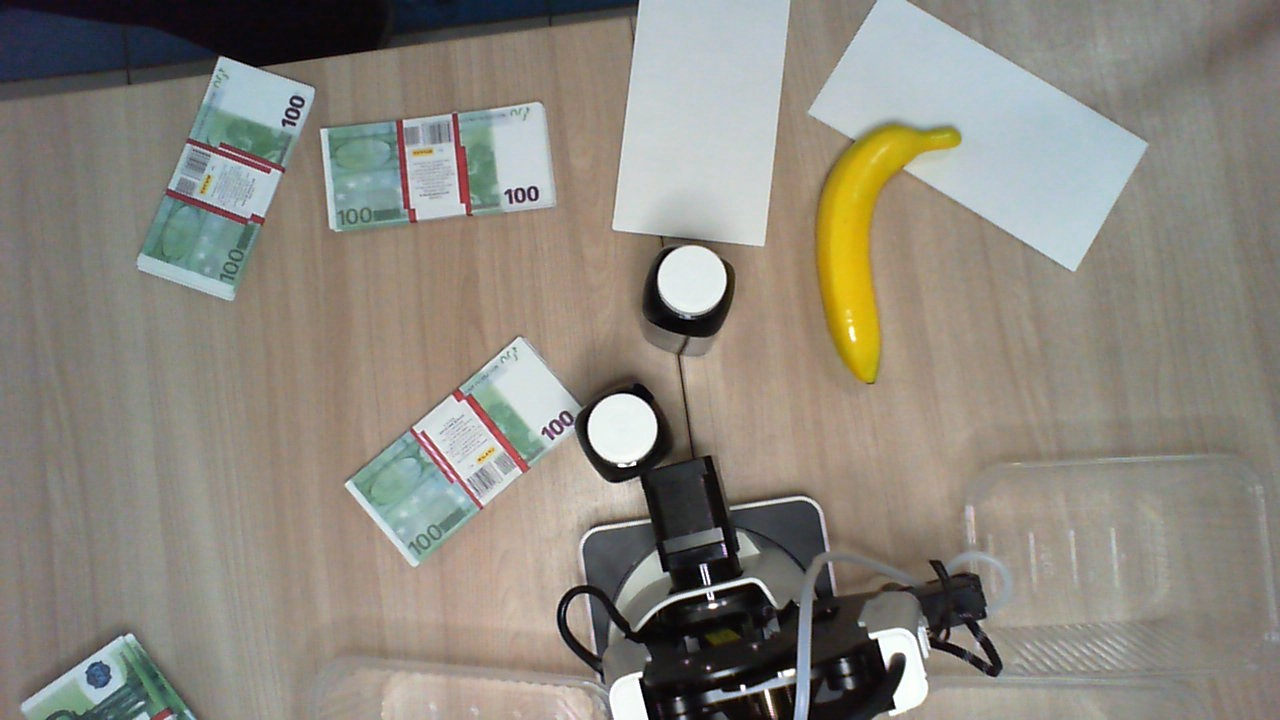banana: (813, 125, 965, 385)
bottle: (579, 383, 675, 485), (643, 242, 738, 335)
convert: (808, 1, 1151, 274), (610, 1, 792, 244)
money: (342, 335, 588, 565), (134, 56, 318, 302), (320, 104, 561, 235), (18, 630, 208, 720)
